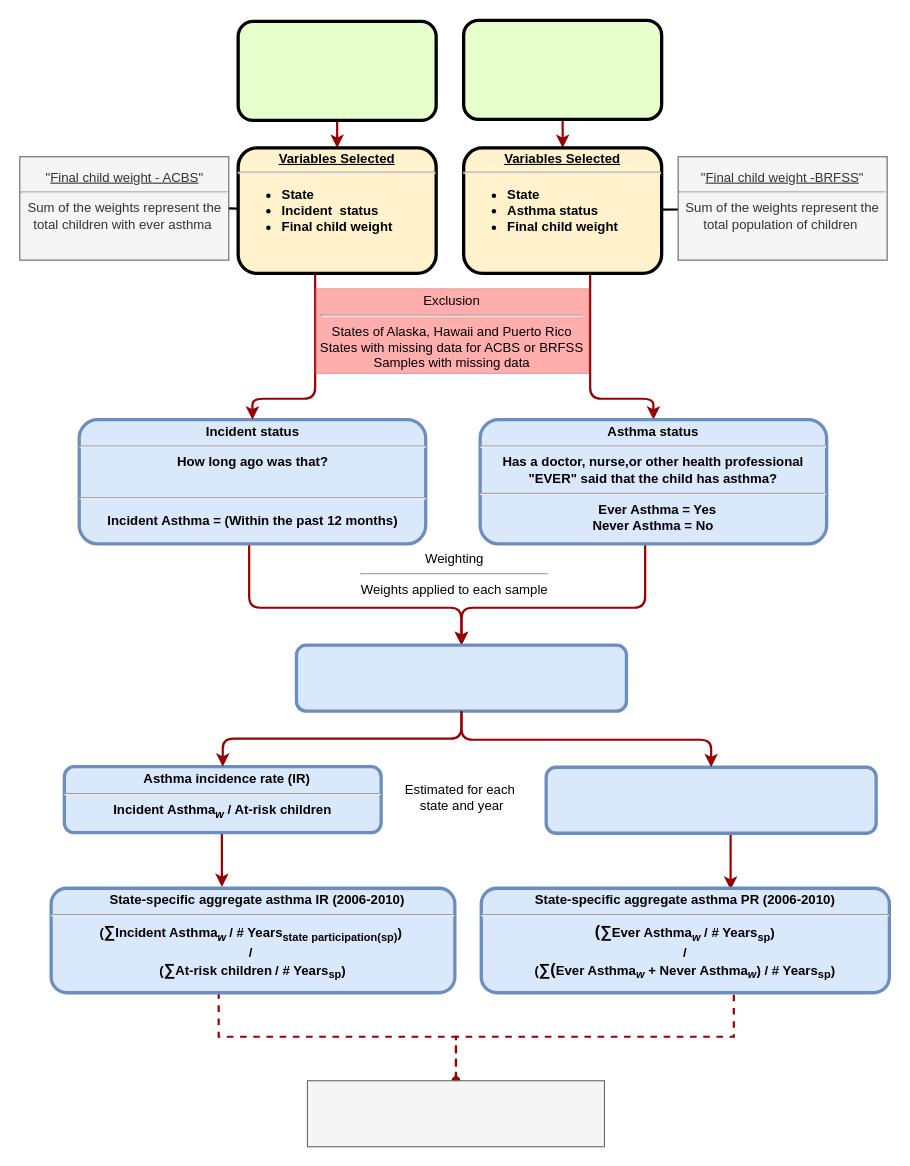
This 910x1166 diagram has some shape labels left out. The shapes that lost their labels are listed below. From the top down, each one's centre as x and y in pixels, then its label:
point (336, 70): Asthma Call Back Survey "ACBS" (2006-2010)
point (562, 69): Behavioural Risk Factor Surveillance Survey "BRFSS" (2006-2010)
point (461, 677): At-risk children Incident Asthma weighted(w) + Never Asthma w
point (710, 799): Asthma prevalence rate (PR) Ever Asthma w / (Ever Asthma w + Never Asthma w )
point (455, 1113): Aggregate IR and PR (2006-2010)
